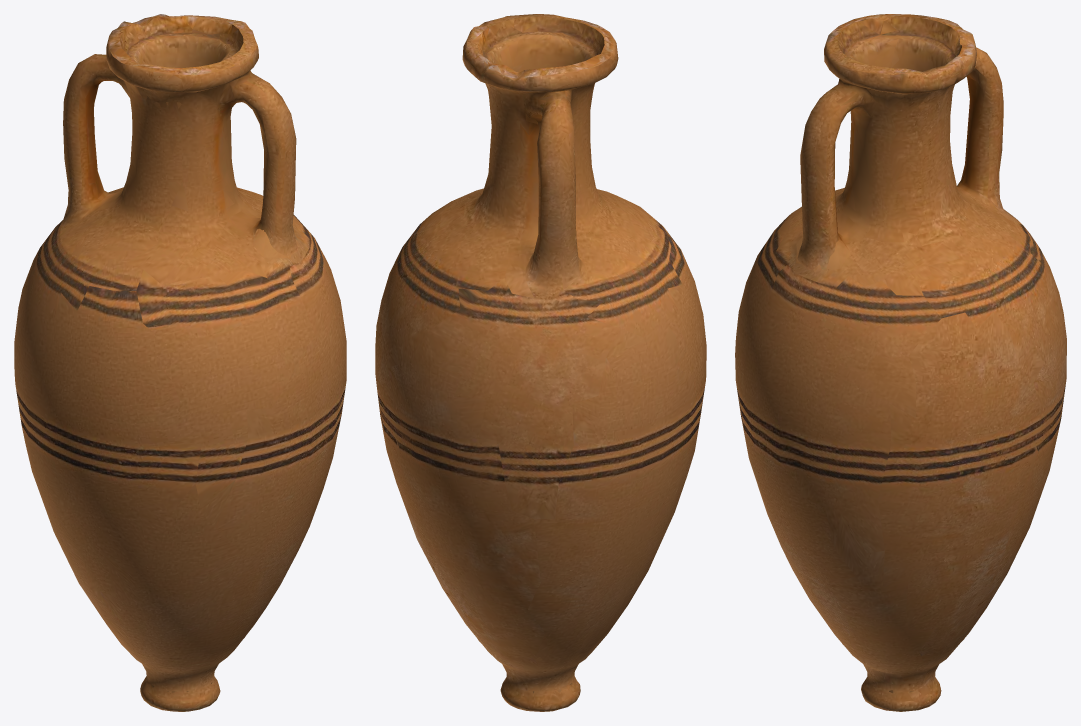
File: amphora.glb
3 renders of one model, left to right at view 1: azimuth 30°, elevation 25°; view 2: azimuth 150°, elevation 25°; view 3: azimuth 270°, elevation 25°, orthographic.
Visible parts, largest first — view 1: amphora; view 2: amphora; view 3: amphora.
Boxes of the visible parts, x1,y1,x2,y2 form: amphora: (14,14,346,711); amphora: (375,14,706,711); amphora: (735,14,1066,711).
Bounding box in the file's own units: 0.4795 × 1.05 × 0.4808.
1 material, 1 textured.
